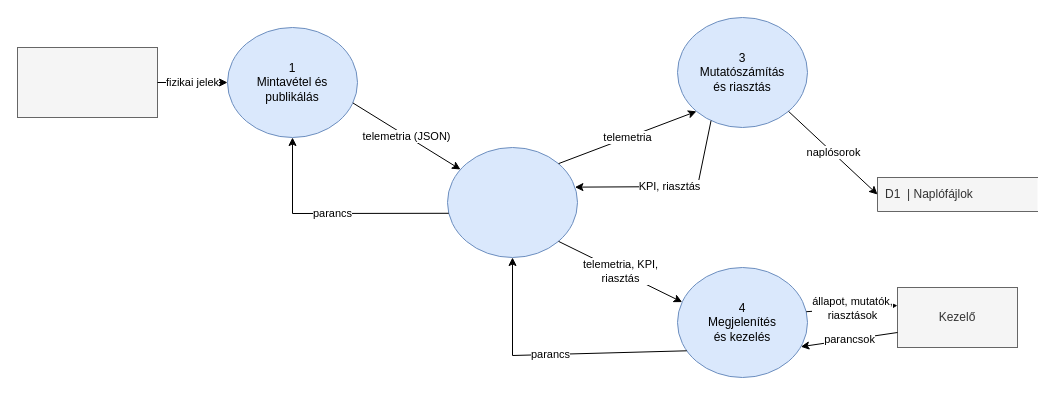
Image size: 1055x395. Some labels were removed from this diagram. Each missing label, with the box of its shape:
2 Üzenet- továbbítás (broker): (446, 146, 578, 258)
CNC-cella (érzékelők): (16, 46, 158, 118)
